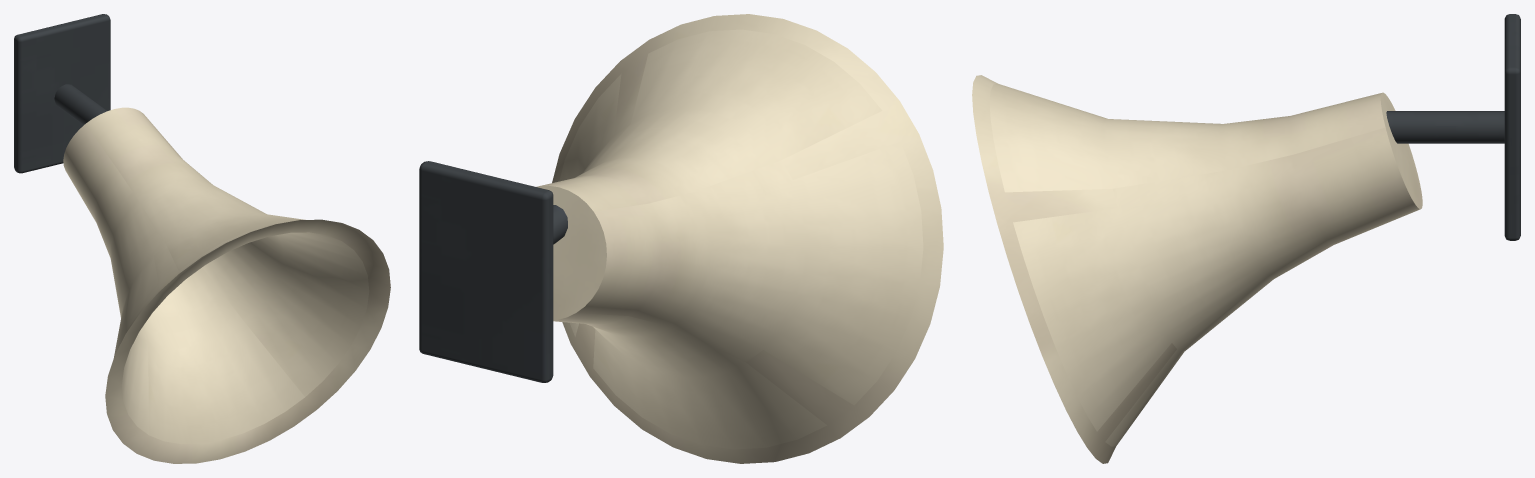
File: Loudspeaker.glb
3 views of the same model, side by side, from view 1: azimuth 30°, elevation 25°; view 2: azimuth 150°, elevation 25°; view 3: azimuth 270°, elevation 25° (orthographic). The views are drawn at different scales.
Parts seen in each view (by area): view 1: Loudspeaker_Body; view 2: Loudspeaker_Body; view 3: Loudspeaker_Body.
Part boxes in pixels (left/top/right/bottom): Loudspeaker_Body: left=14, top=14, right=390, bottom=463; Loudspeaker_Body: left=419, top=14, right=943, bottom=463; Loudspeaker_Body: left=972, top=14, right=1520, bottom=463.
Size of the model in its own units: 0.3 by 0.3257 by 0.4017.
Materials: 2 (2 with a texture image).
